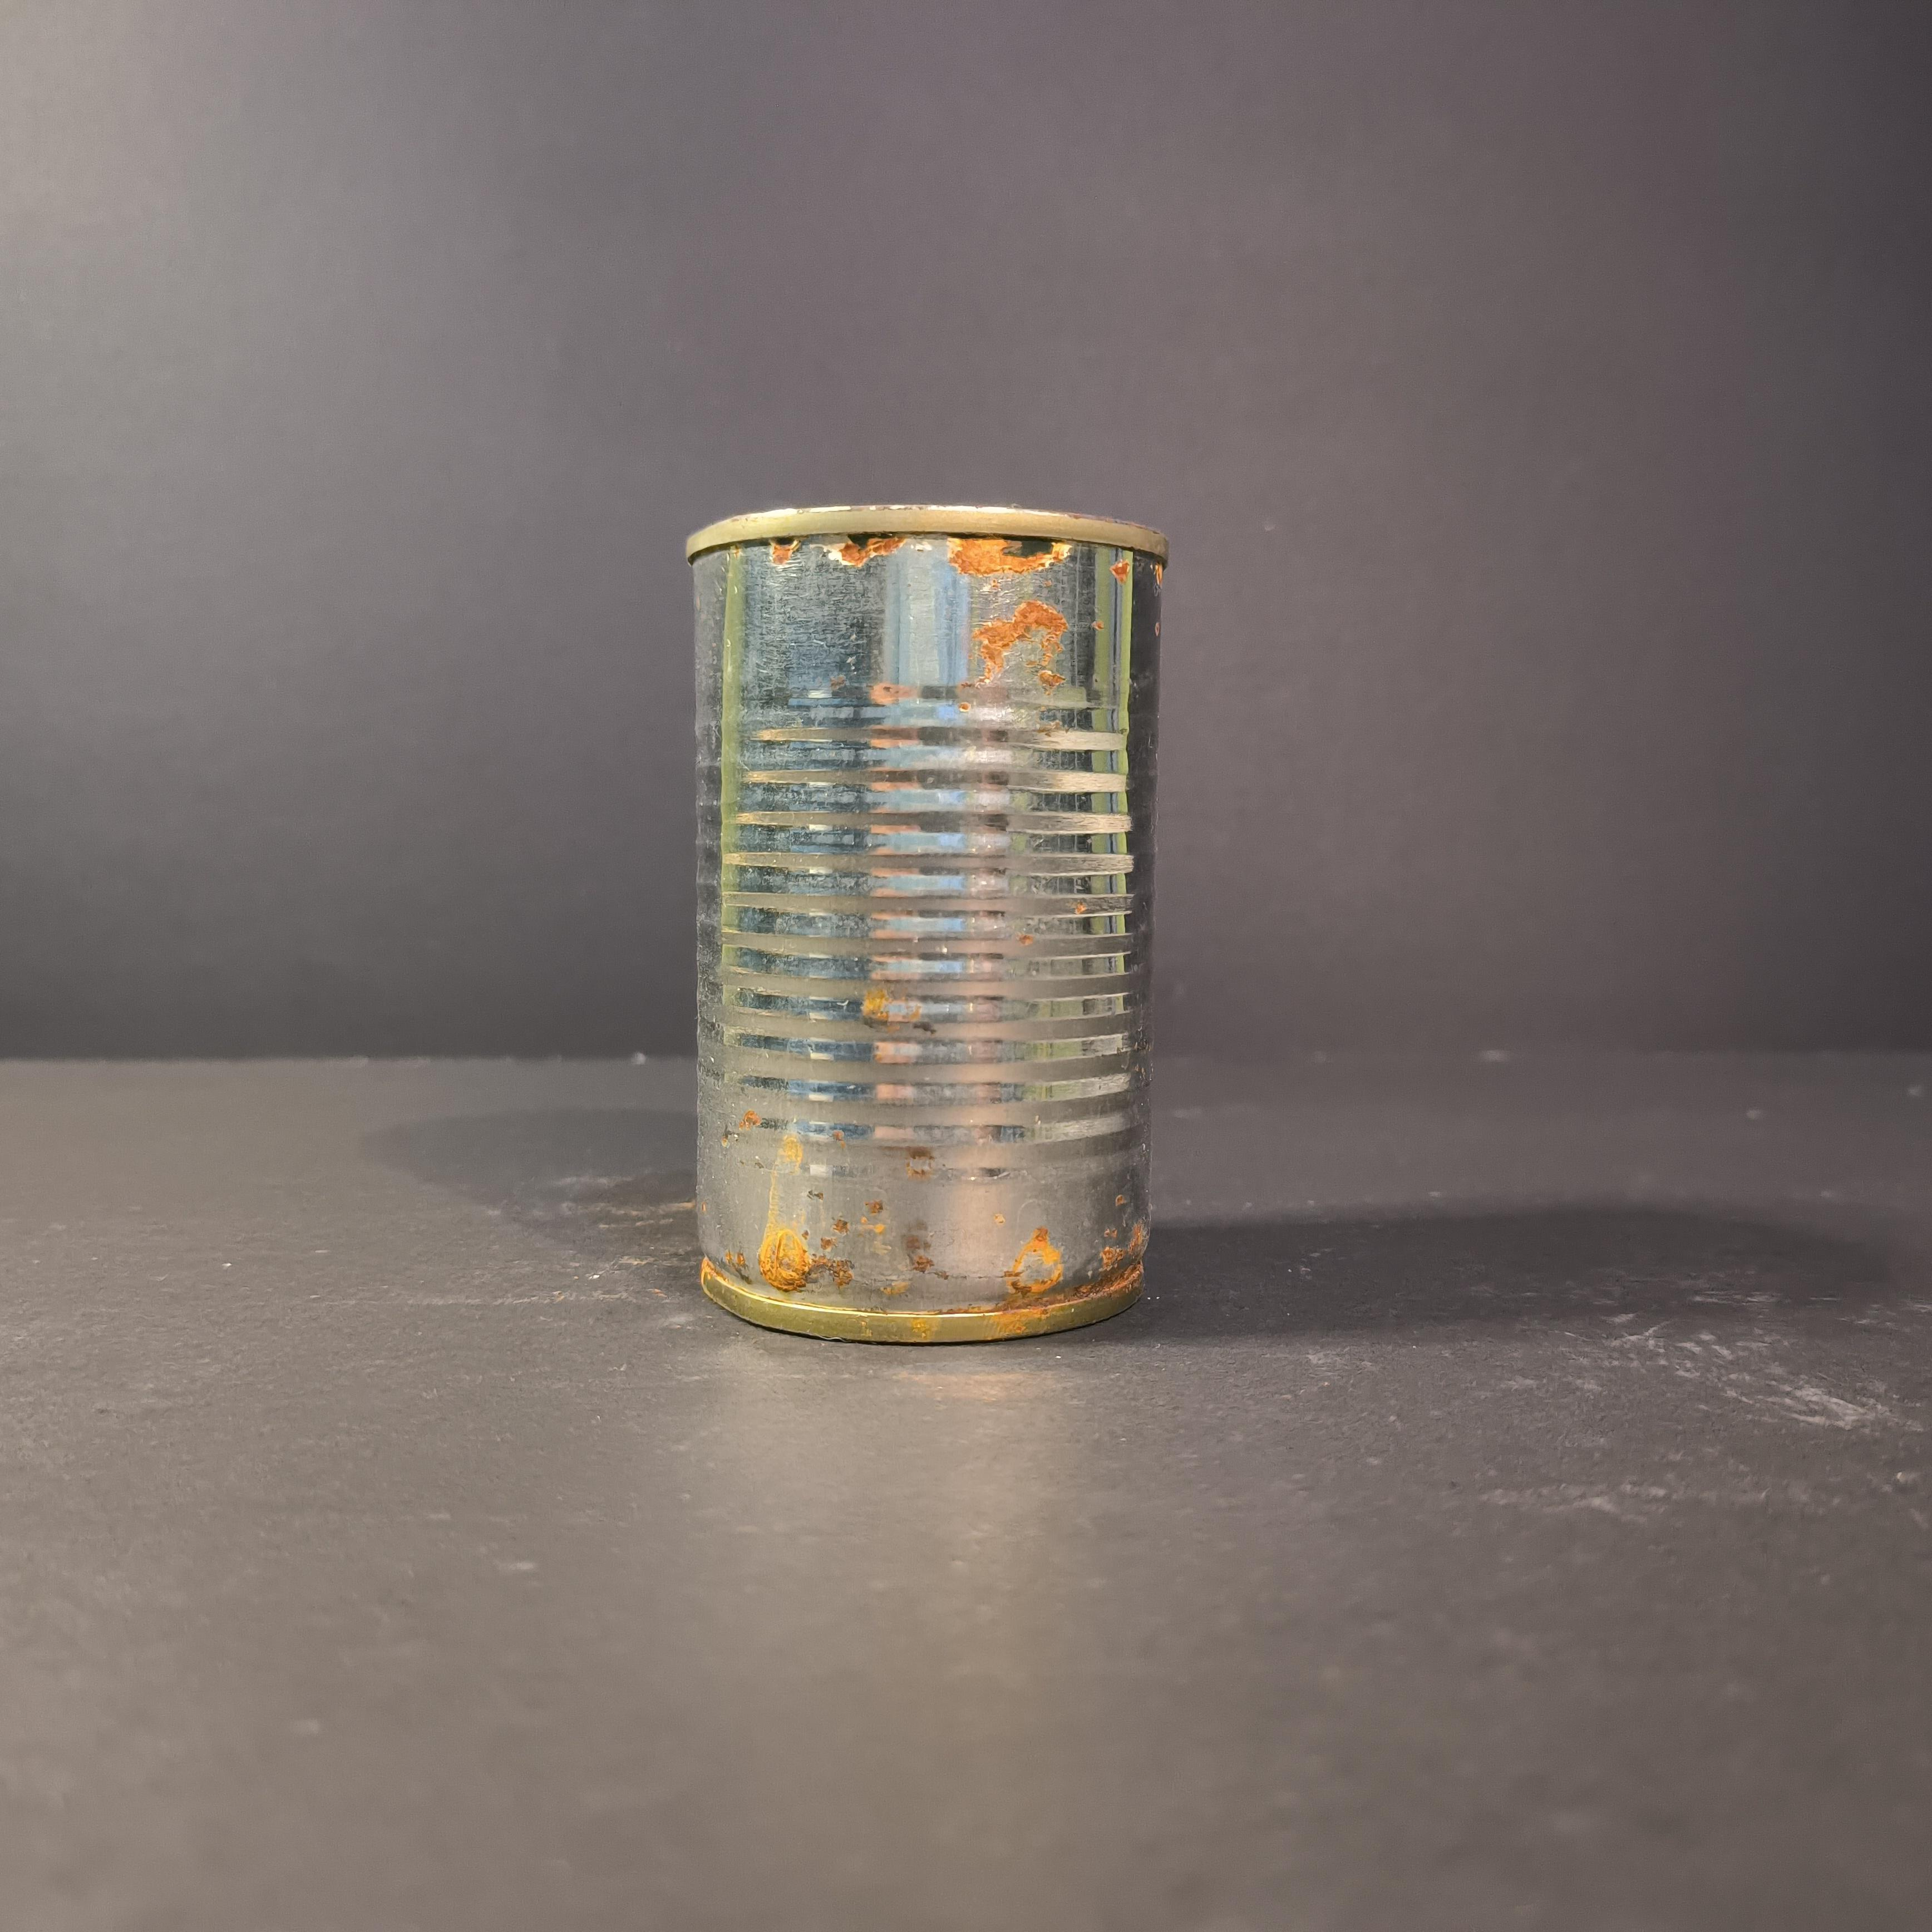Rusted: (679, 485, 1194, 1366)
